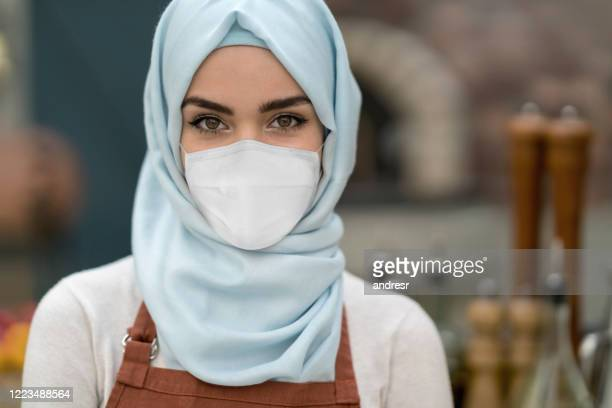mask: (179, 139, 325, 253)
person: (38, 5, 451, 408)
